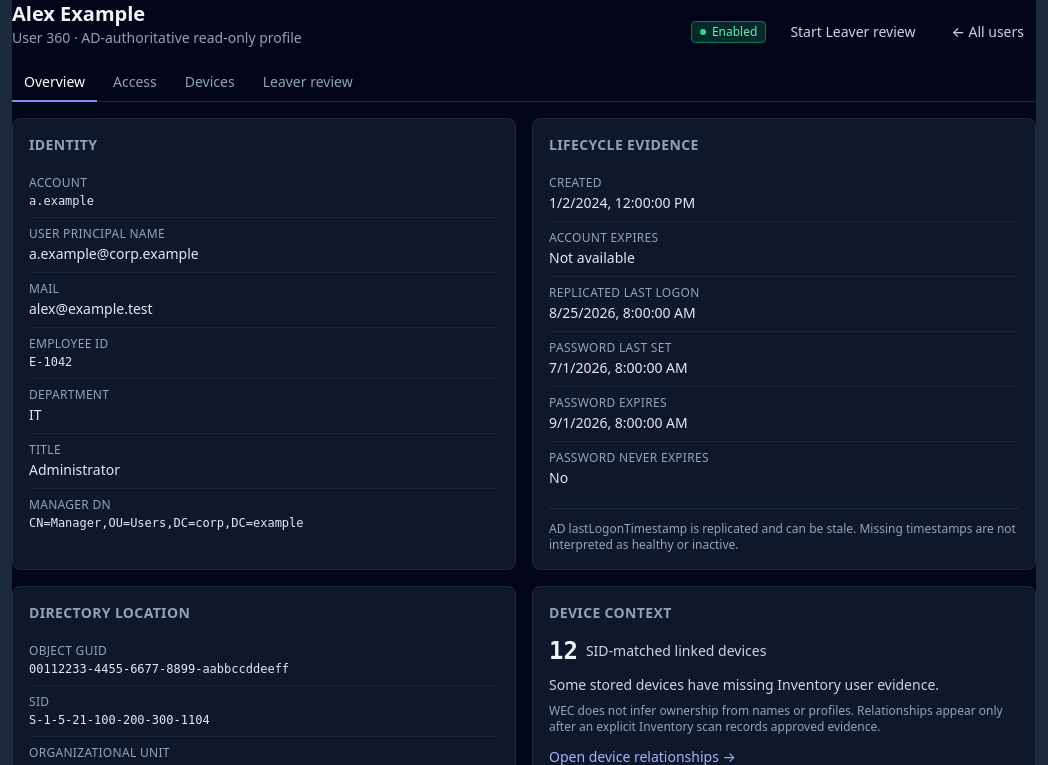
Scenario: UserDetailPage › opens a read-only leaver assessment from the selected user without invoking write actions
The image size is (1048, 765).
Click the button "Start Leaver review". click: (853, 32)
box: [778,16,928,48]
(page scrolled)
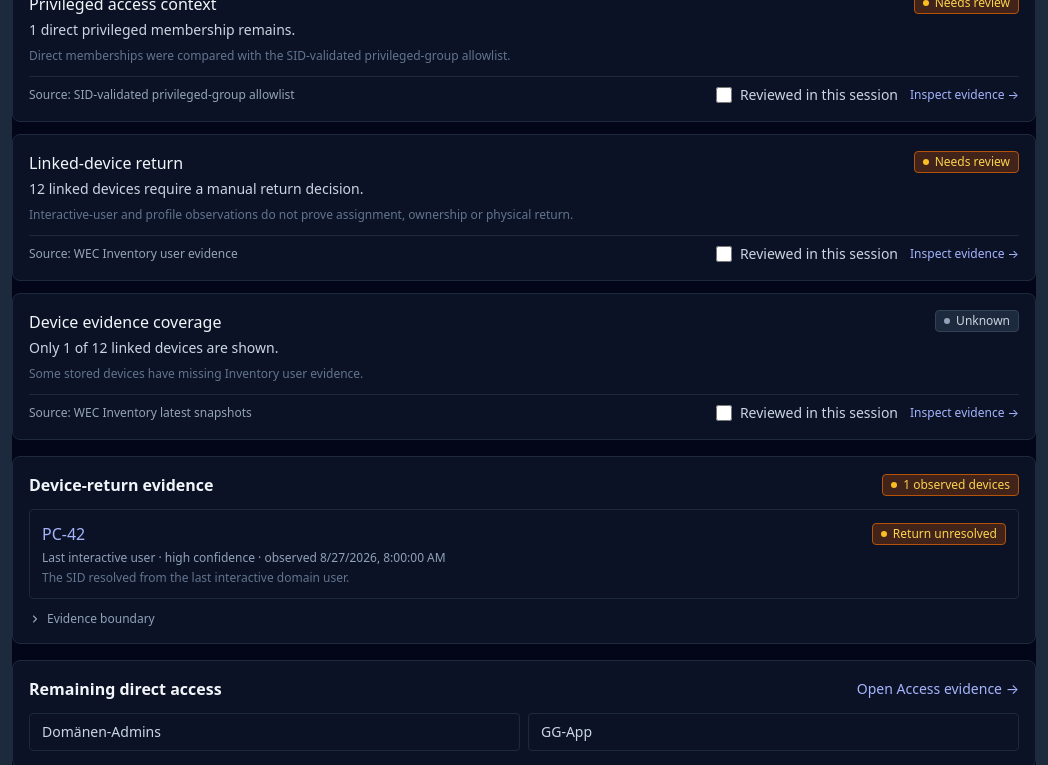
Check: the text "1 direct privileged membership remains." is shown, box [29,20,295,40]
Check: the text "Return unresolved" is shown, box [872,523,1006,545]
